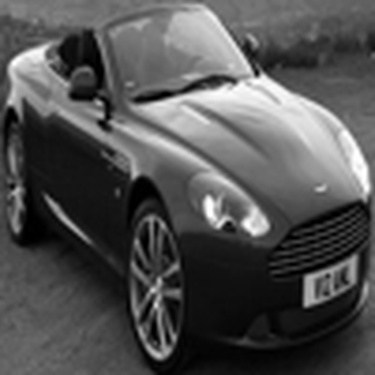car: (1, 4, 371, 369)
